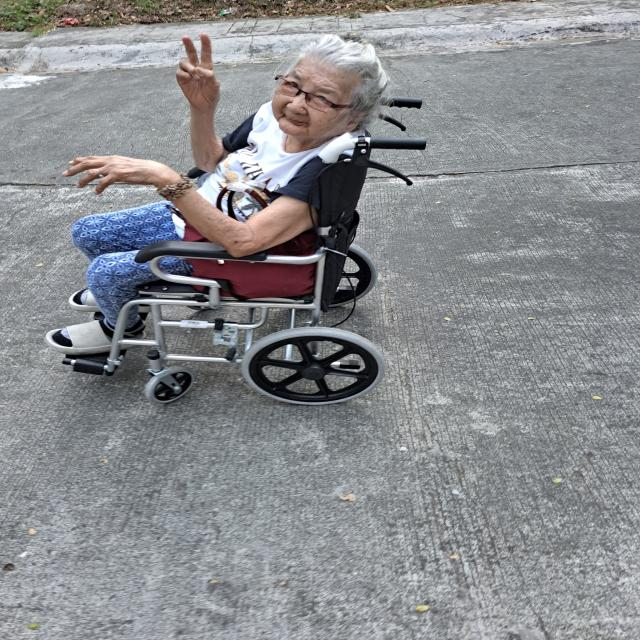wheelchairs: (61, 90, 425, 405)
